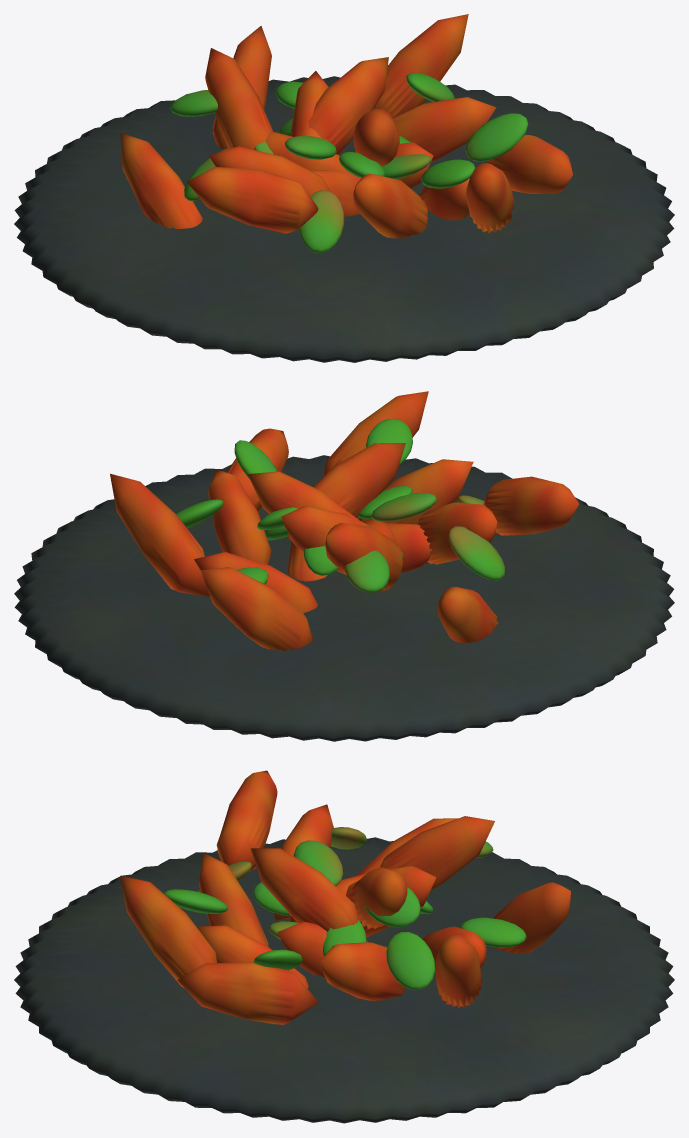
File: crispy-chilli-babycorn-balanced.glb
3 renders of one model, top to bottom at view 1: azimuth 30°, elevation 25°; view 2: azimuth 150°, elevation 25°; view 3: azimuth 270°, elevation 25°, orthographic.
Parts seen in each view (by area): view 1: Mesh_Wok_Shallow_Dish, Mesh_Crispy_Chilli_Babycorn_Spears, Mesh_Wok_Bell_Peppers_And_Scallions; view 2: Mesh_Wok_Shallow_Dish, Mesh_Crispy_Chilli_Babycorn_Spears, Mesh_Wok_Bell_Peppers_And_Scallions; view 3: Mesh_Wok_Shallow_Dish, Mesh_Crispy_Chilli_Babycorn_Spears, Mesh_Wok_Bell_Peppers_And_Scallions.
Part boxes in pixels (<box>): Mesh_Wok_Shallow_Dish: <box>14,76,674,362</box>; Mesh_Crispy_Chilli_Babycorn_Spears: <box>120,14,572,238</box>; Mesh_Wok_Bell_Peppers_And_Scallions: <box>170,73,528,252</box>; Mesh_Wok_Shallow_Dish: <box>14,455,674,741</box>; Mesh_Crispy_Chilli_Babycorn_Spears: <box>110,391,579,650</box>; Mesh_Wok_Bell_Peppers_And_Scallions: <box>176,418,505,592</box>; Mesh_Wok_Shallow_Dish: <box>14,837,674,1123</box>; Mesh_Crispy_Chilli_Babycorn_Spears: <box>120,770,570,1024</box>; Mesh_Wok_Bell_Peppers_And_Scallions: <box>164,827,526,989</box>.
Bounding box in the file's own units: 2 × 0.548 × 2.
Materials: 3 (3 with a texture image).
